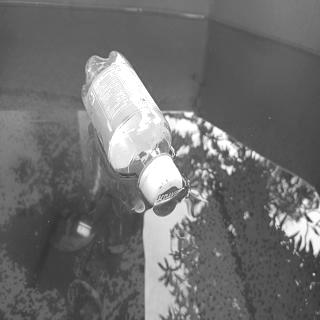bottle: (80, 49, 184, 208)
